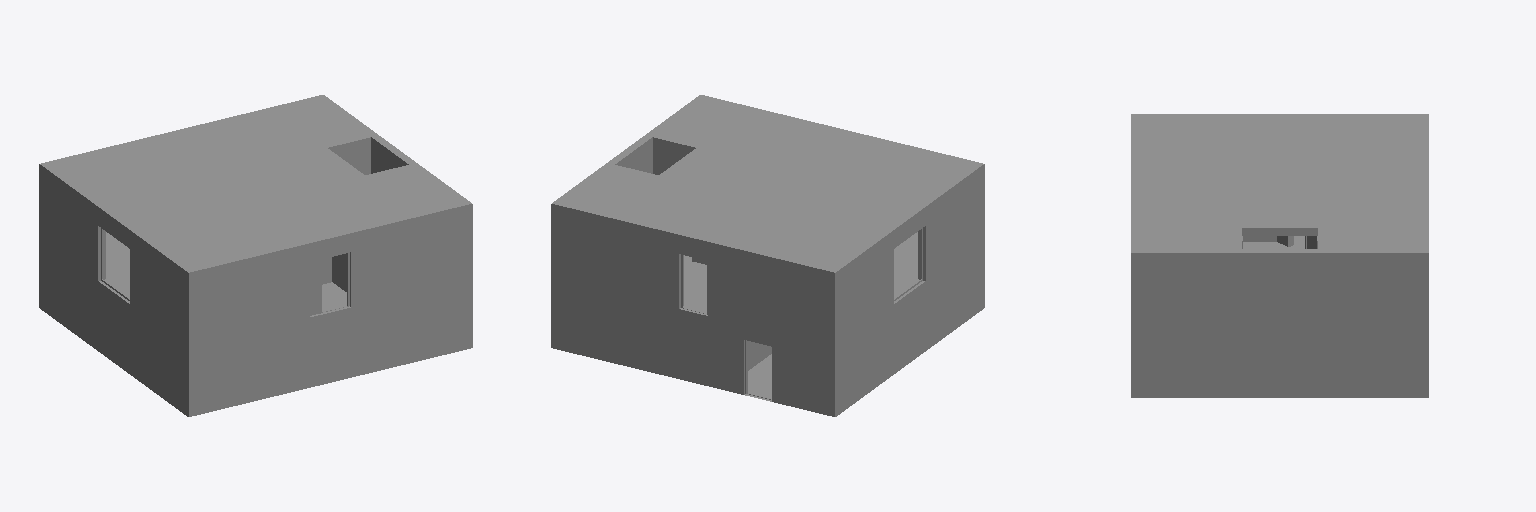
The model's file is haus.obj.
3 views of the same model, side by side, from view 1: azimuth 30°, elevation 25°; view 2: azimuth 150°, elevation 25°; view 3: azimuth 270°, elevation 25° (orthographic).
Parts seen in each view (by area): view 1: Haus; view 2: Haus; view 3: Haus.
Boxes of the visible parts, box(x1,y1,x2,y2) form: Haus: box(39, 95, 472, 416); Haus: box(551, 95, 984, 416); Haus: box(1131, 114, 1428, 397).
Bounding box in the file's own units: 11 × 5.35 × 10.